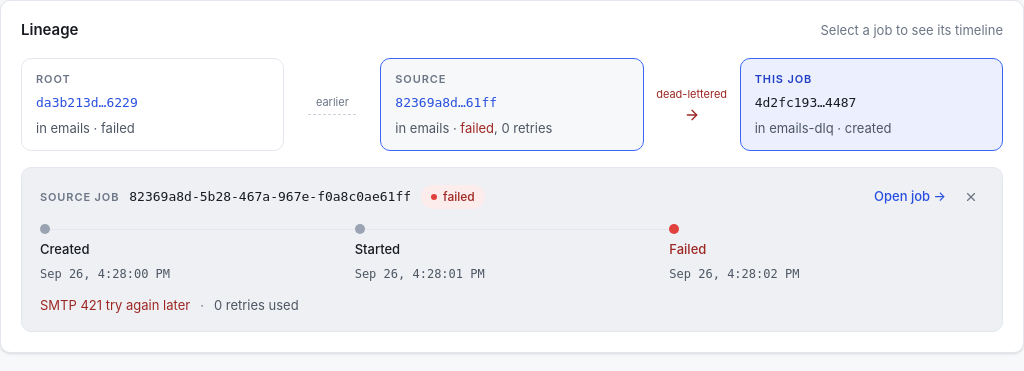
Test case: LineageCard › switches to the root when it is selected, and closes
What coordinates should you click on to do the following:
click the button "Root da3b213d…6229 in emails · failed"
I would click on:
 (53, 78)
Its box is [21,58,284,151].
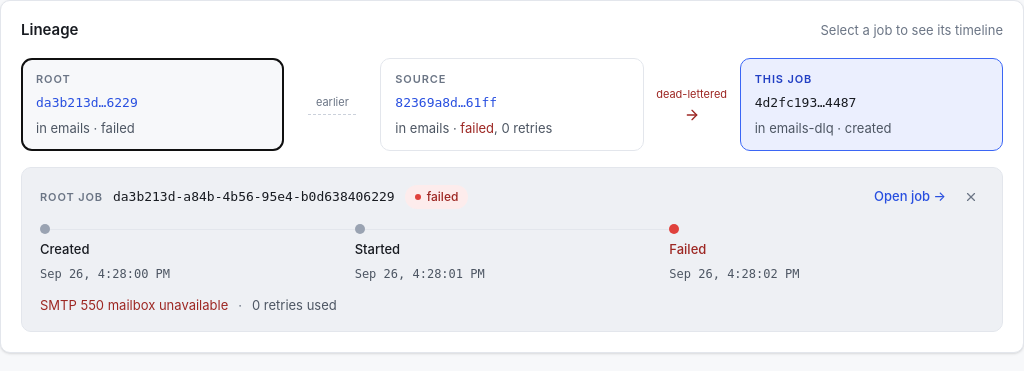
Result: the text "da3b213d-a84b-4b56-95e4-b0d638406229" is shown at [113,187,395,207]
Result: the text "SMTP 550 mailbox unavailable" is shown at [40,296,228,315]
What coordinates should you click on to do the following:
click the button named "Close root job timeline"
I would click on:
 (971, 197)
Its box is [958,184,984,210].
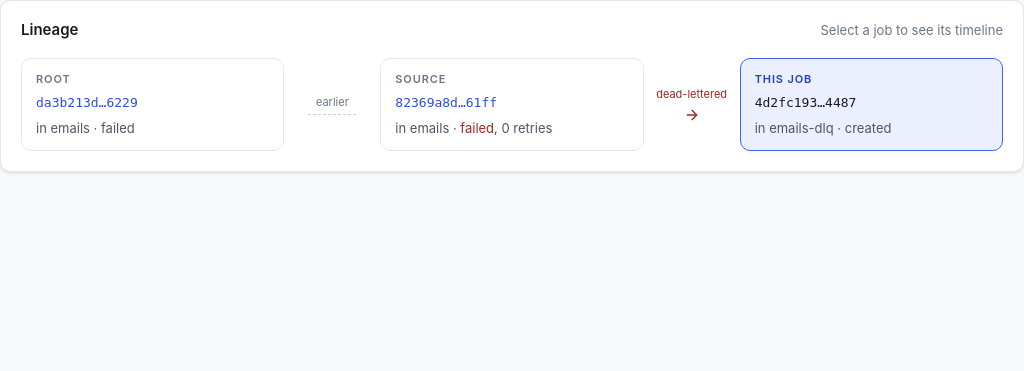
Result: the text "da3b213d-a84b-4b56-95e4-b0d638406229" is gone
